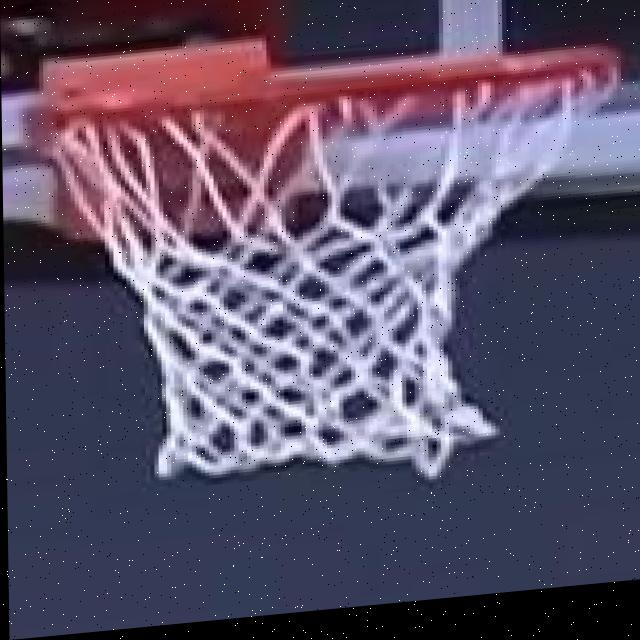hoop: (10, 9, 599, 515)
